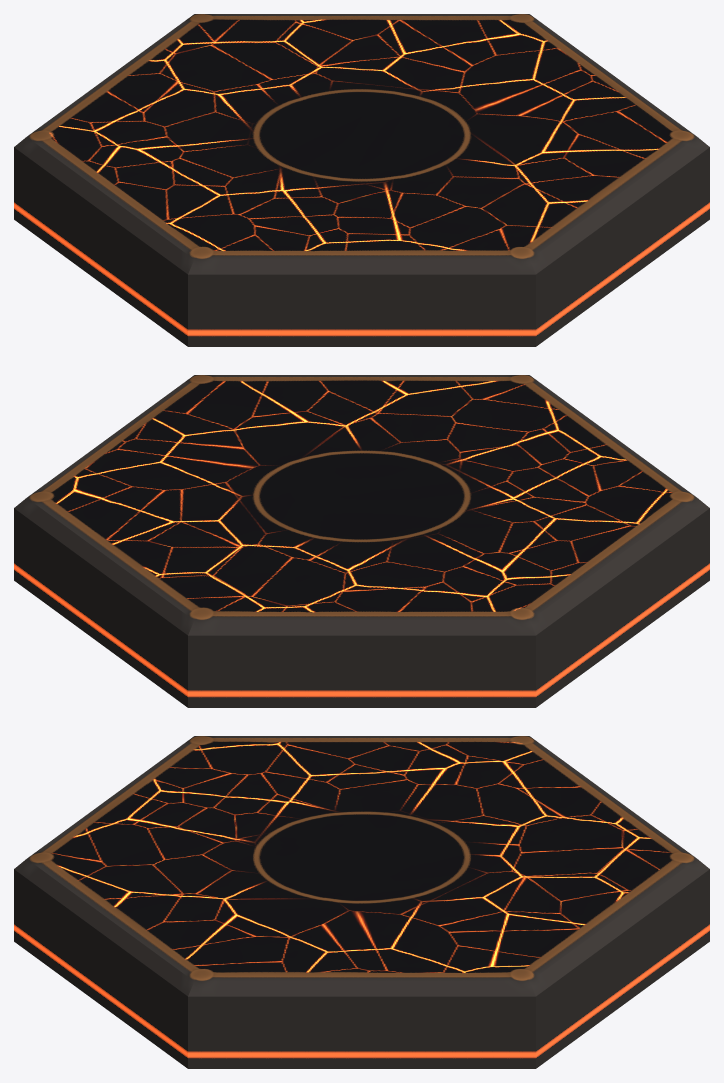
File: hex_obsidian.glb
3 renders of one model, top to bottom at view 1: azimuth 30°, elevation 25°; view 2: azimuth 150°, elevation 25°; view 3: azimuth 270°, elevation 25°, orthographic.
Visible parts, largest first — view 1: hex_obsidian; view 2: hex_obsidian; view 3: hex_obsidian.
Part boxes in pixels (<box>): hex_obsidian: <box>14,14,709,346</box>; hex_obsidian: <box>14,375,709,707</box>; hex_obsidian: <box>14,736,709,1068</box>.
Bounding box in the file's own units: 2 × 0.312 × 2.31.
Materials: 1 (1 with a texture image).
